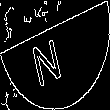N_N: (37, 25, 73, 85)
